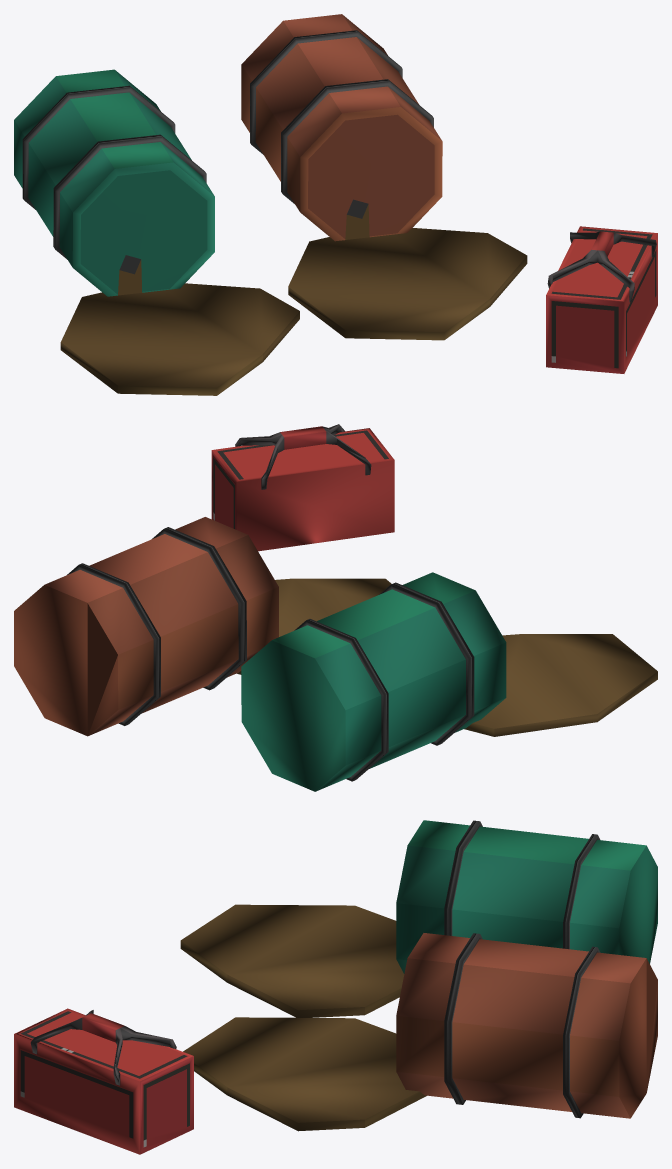
The model's file is apoc_prop_73.glb.
The picture shows the model from 3 angles, top to bottom: view 1: azimuth 30°, elevation 25°; view 2: azimuth 150°, elevation 25°; view 3: azimuth 270°, elevation 25°; orthographic projection.
Parts seen in each view (by area): view 1: prop_075; view 2: prop_075; view 3: prop_075.
Boxes of the visible parts, x1,y1,x2,y2 form: prop_075: (14,14,657,395); prop_075: (14,424,657,791); prop_075: (14,820,657,1154).
Bounding box in the file's own units: 0.8441 × 0.2324 × 0.9402.
Materials: 1 (1 with a texture image).
